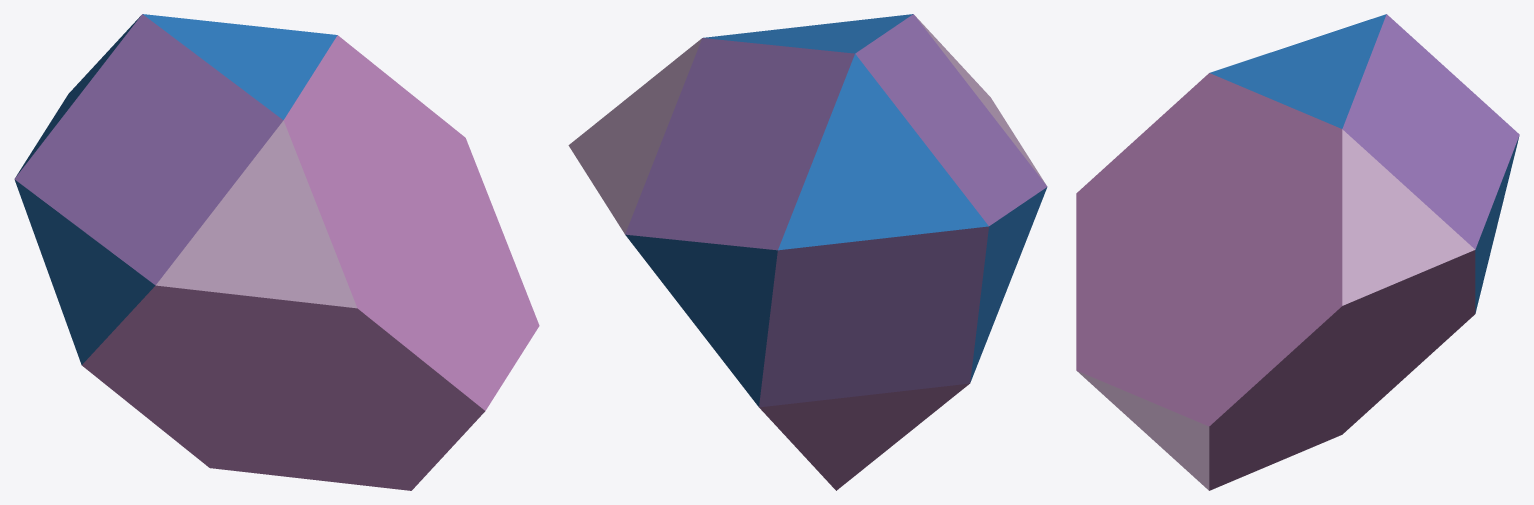
The model's file is J65.TetraedroTruncadoAumentado.gltf.
3 views of the same model, side by side, from view 1: azimuth 30°, elevation 25°; view 2: azimuth 150°, elevation 25°; view 3: azimuth 270°, elevation 25° (orthographic). The views are drawn at different scales.
Parts seen in each view (by area): view 1: J65.TetraedroTruncadoAumentado; view 2: J65.TetraedroTruncadoAumentado; view 3: J65.TetraedroTruncadoAumentado.
Part boxes in pixels (box(x1,y1,x2,y2)): J65.TetraedroTruncadoAumentado: box(14, 14, 539, 490); J65.TetraedroTruncadoAumentado: box(568, 14, 1047, 490); J65.TetraedroTruncadoAumentado: box(1076, 14, 1519, 490).
Size of the model in its own units: 15.29 by 15.29 by 15.29.
